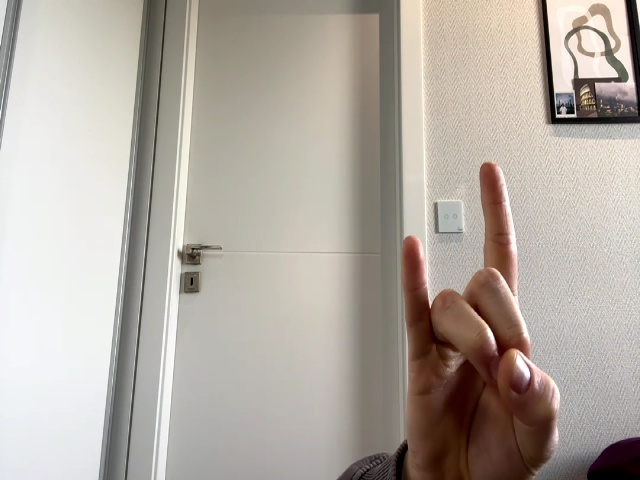Y: (402, 163, 560, 472)
